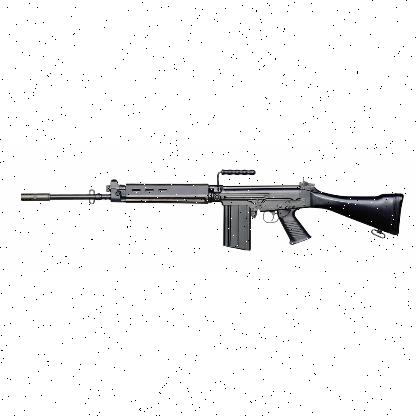gun: (20, 168, 404, 250)
